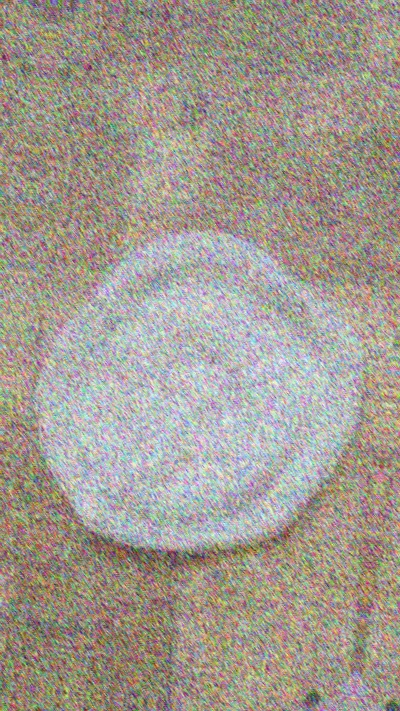Hat: (5, 176, 397, 597), (381, 222, 400, 643), (0, 129, 14, 550)
